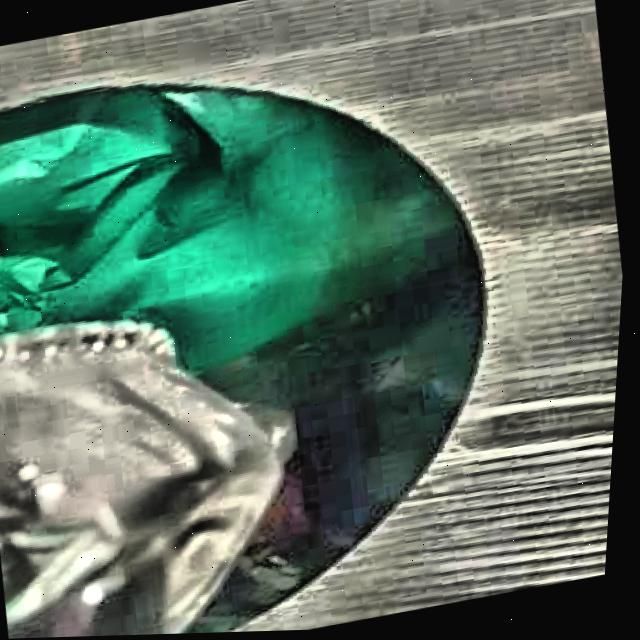metal: (0, 326, 294, 639)
